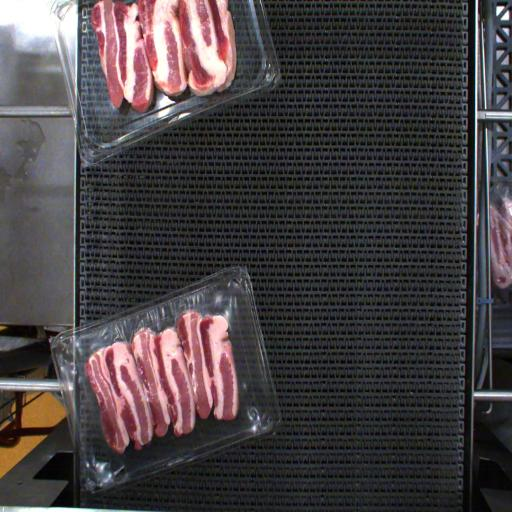unsealed: (50, 278, 268, 436)
